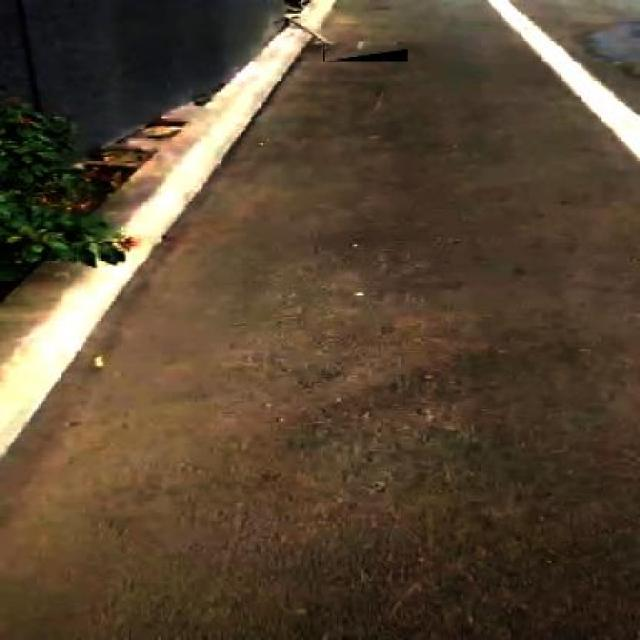Manhole: (323, 42, 408, 62)
